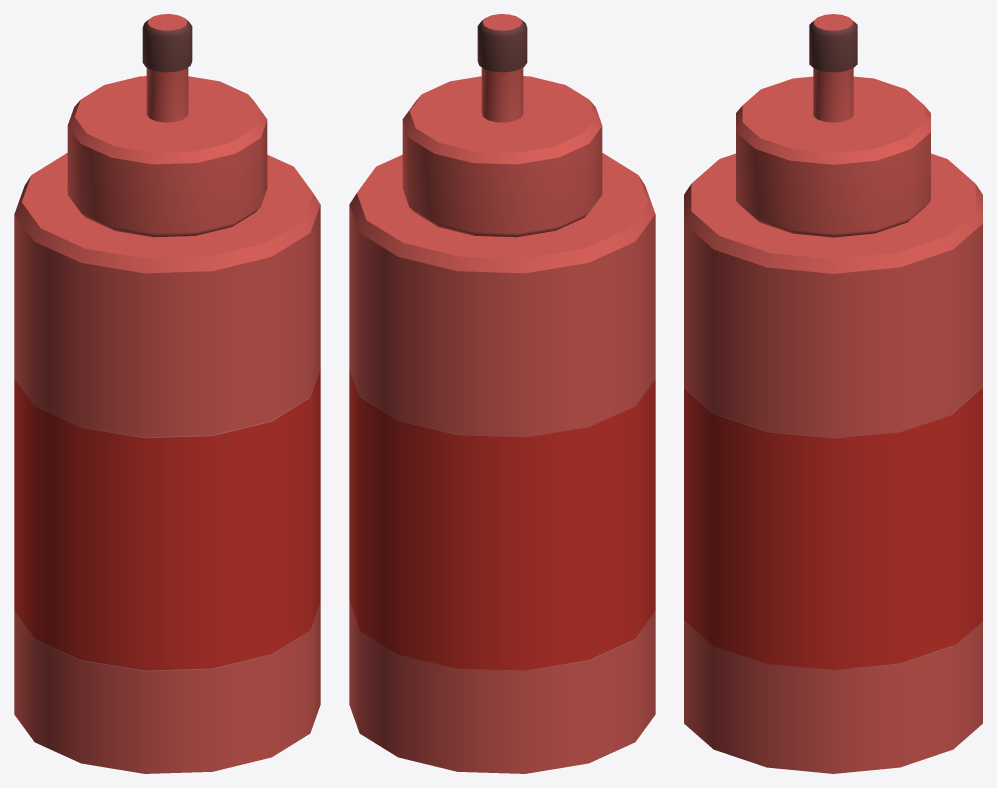
Rendered from Sauce_bottle_red.fbx.
The picture shows the model from 3 angles, left to right: view 1: azimuth 30°, elevation 25°; view 2: azimuth 150°, elevation 25°; view 3: azimuth 270°, elevation 25°; orthographic projection.
Parts seen in each view (by area): view 1: pCylinder1; view 2: pCylinder1; view 3: pCylinder1.
Boxes of the visible parts, x1,y1,x2,y2 form: pCylinder1: (14, 14, 320, 773); pCylinder1: (349, 14, 655, 773); pCylinder1: (684, 14, 982, 773).
Bounding box in the file's own units: 16.78 × 41.49 × 16.36.
